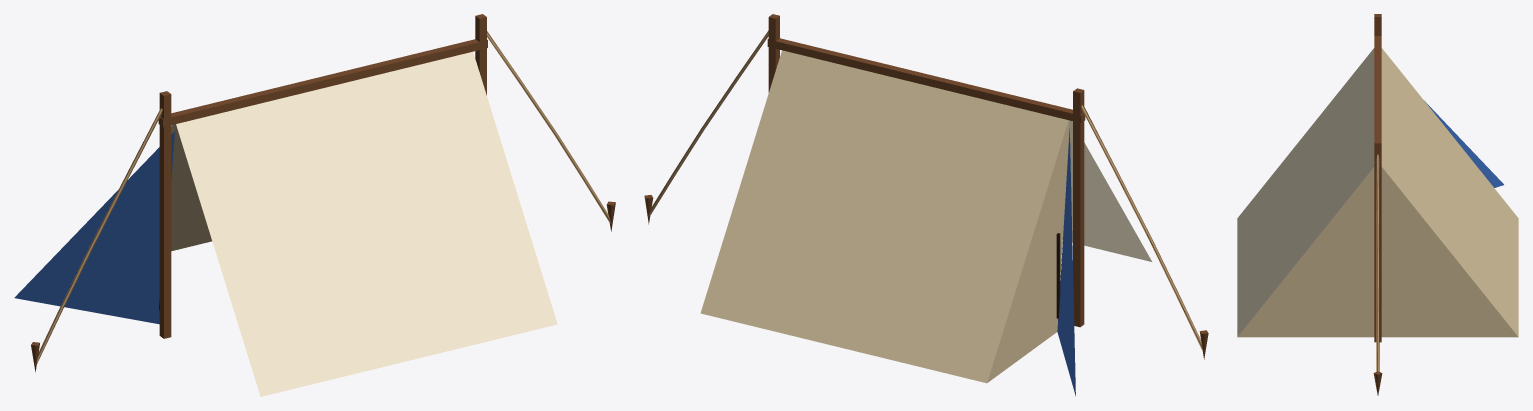
File: CampTent.glb
3 renders of one model, left to right at view 1: azimuth 30°, elevation 25°; view 2: azimuth 150°, elevation 25°; view 3: azimuth 270°, elevation 25°, orthographic. The views are drawn at different scales.
Parts seen in each view (by area): view 1: Body; view 2: Body; view 3: Body.
Part boxes in pixels (box(x1,y1,x2,y2)): Body: box(14, 14, 615, 396); Body: box(644, 14, 1208, 396); Body: box(1237, 14, 1518, 395).
Size of the model in its own units: 6.3 by 2.55 by 3.2.
Materials: 1 (1 with a texture image).
